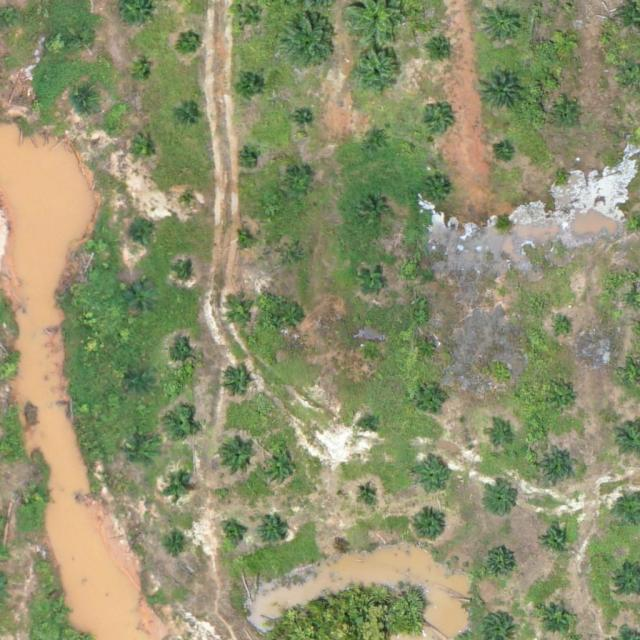Healthy: (282, 14, 337, 69)
Small: (350, 46, 405, 101), (479, 68, 526, 115), (539, 447, 579, 487), (260, 448, 300, 487), (484, 7, 523, 46), (411, 508, 450, 547), (538, 597, 577, 636), (413, 457, 452, 496), (219, 437, 258, 476), (280, 301, 311, 333), (486, 484, 517, 516), (484, 547, 515, 579), (541, 525, 572, 557), (417, 382, 448, 414), (550, 26, 581, 58), (225, 297, 256, 329), (129, 134, 160, 166), (554, 102, 585, 133), (168, 342, 199, 373), (166, 410, 197, 441), (222, 368, 253, 399), (260, 516, 291, 547), (422, 106, 453, 137), (424, 177, 455, 208), (360, 264, 391, 295), (360, 197, 391, 228), (364, 126, 395, 157), (285, 170, 316, 201), (234, 70, 265, 101), (126, 285, 157, 316), (128, 441, 159, 472), (487, 425, 511, 449), (47, 600, 71, 624), (165, 475, 189, 499), (166, 532, 190, 556), (220, 522, 244, 546), (129, 222, 153, 246), (553, 390, 576, 414), (358, 482, 381, 506), (27, 484, 50, 508), (360, 343, 384, 366), (281, 246, 305, 269), (130, 63, 154, 86), (129, 371, 152, 395), (72, 29, 96, 52), (181, 30, 204, 54), (418, 339, 441, 363), (178, 108, 201, 131), (73, 90, 96, 113), (241, 151, 257, 167), (497, 145, 512, 161), (625, 214, 640, 230), (555, 321, 570, 337), (361, 418, 377, 433), (296, 111, 311, 127), (237, 232, 252, 248), (182, 194, 197, 210), (178, 264, 193, 280), (435, 42, 450, 58), (496, 287, 512, 302), (555, 169, 570, 184)
